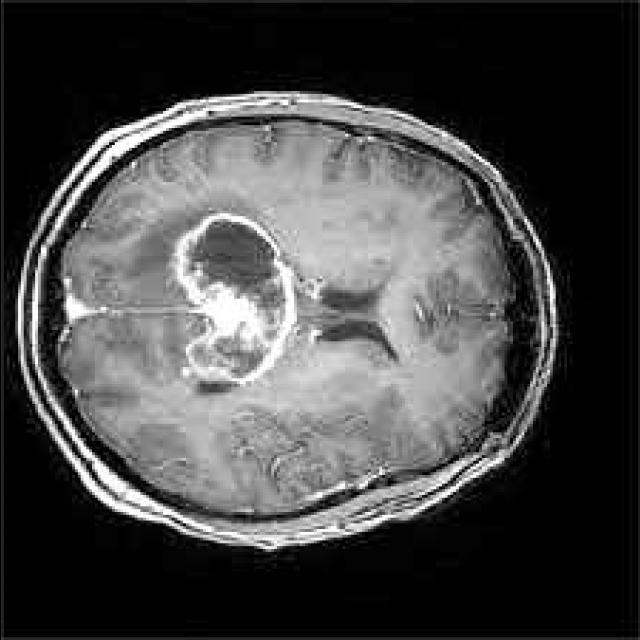tumor: (165, 210, 296, 393)
